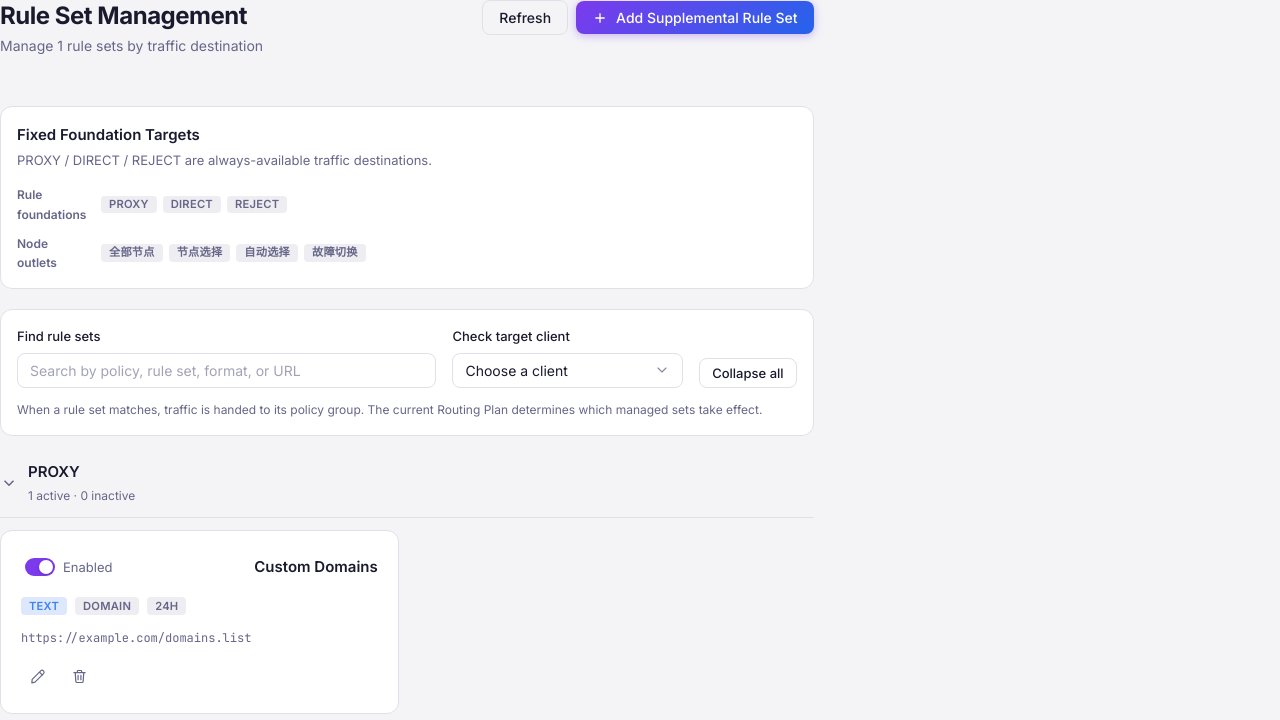
Test case: RemoteRuleSets content validation › discovers known repository sources without overwriting manual values
Click the button named "Edit" at (37, 677), box x1=21 y1=661 x2=53 y2=693
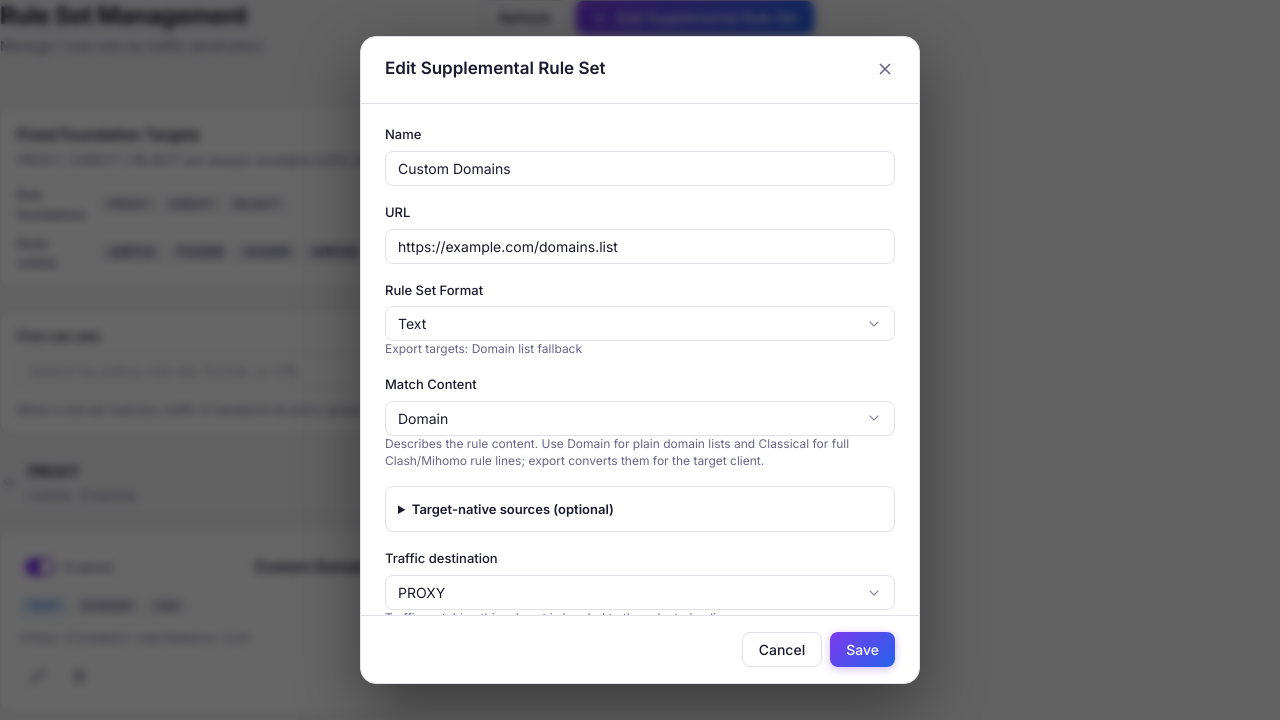
Replace the text in the field labelled "URL" with "https://github.com/QuixoticHeart/rule-set/raw/refs/heads/ruleset/meta/games.list" at (640, 246), box x1=385 y1=229 x2=895 y2=264
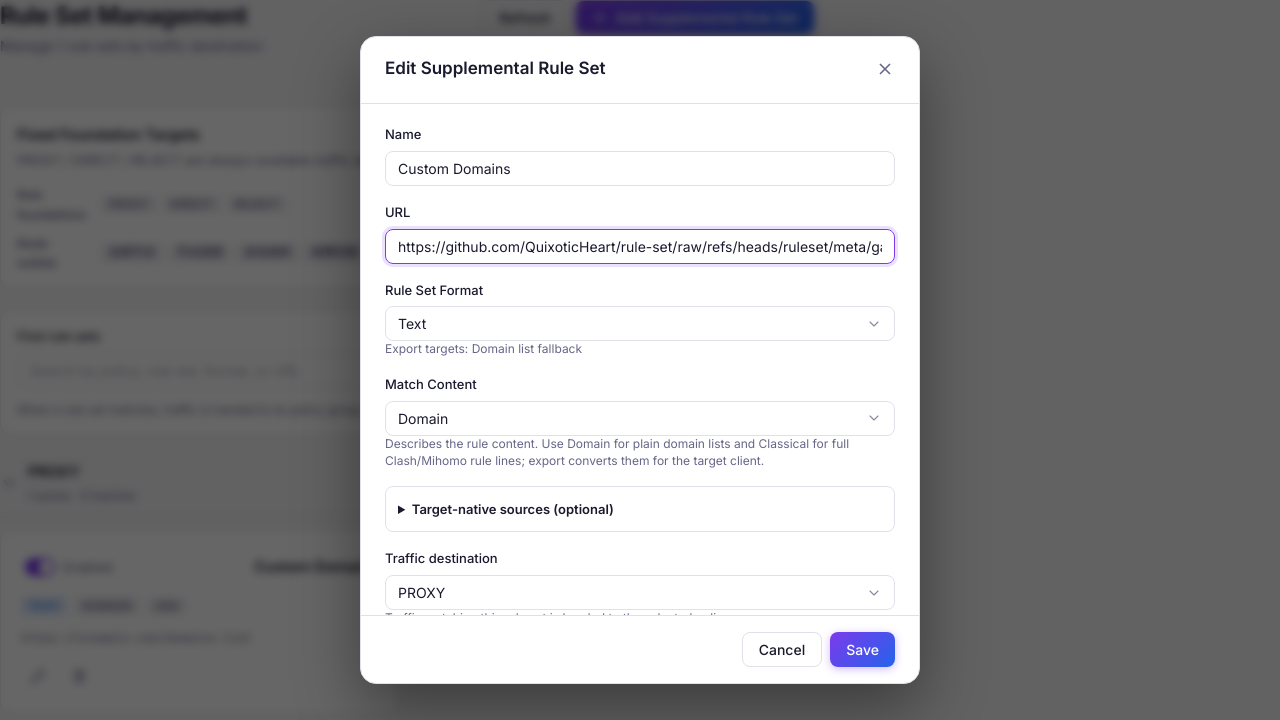
Click the heading "Target-native sources (optional)" at (513, 509), box x1=412 y1=501 x2=614 y2=517
(page scrolled)
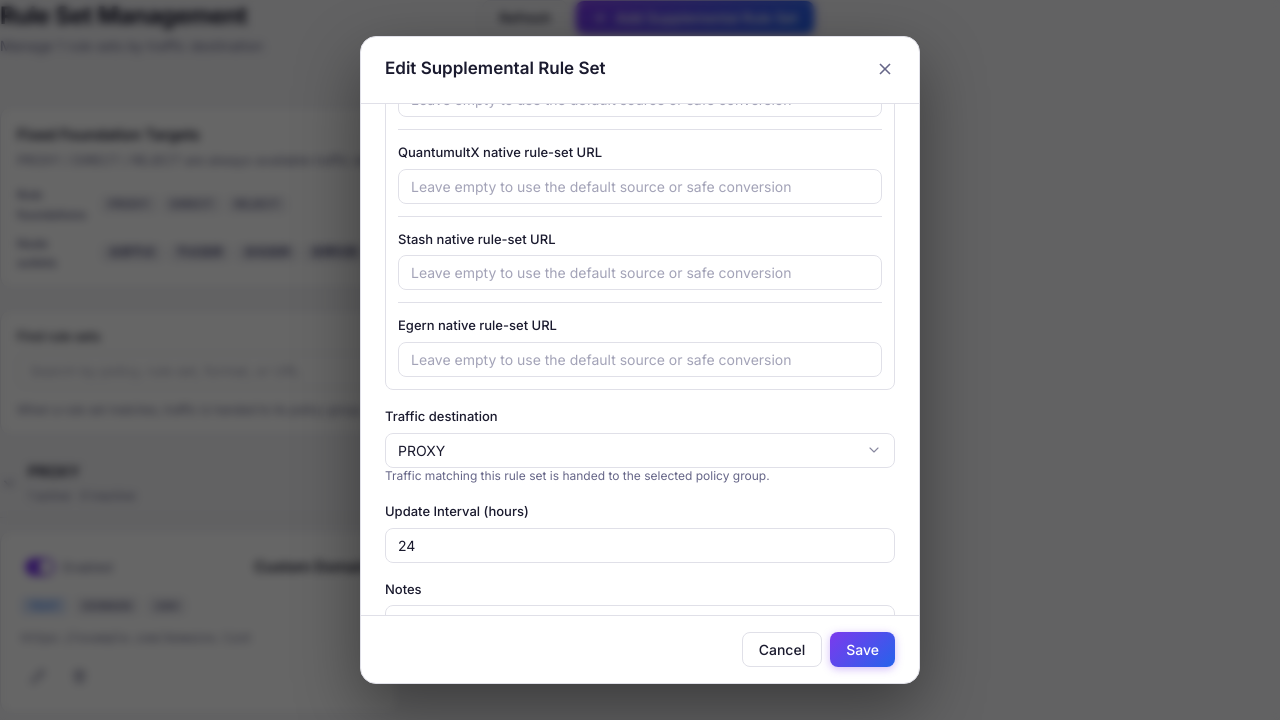
Type "https://manual.example.com/games.yaml" into the field labelled "Egern native rule-set URL" at (640, 360), box x1=398 y1=342 x2=882 y2=377
(page scrolled)
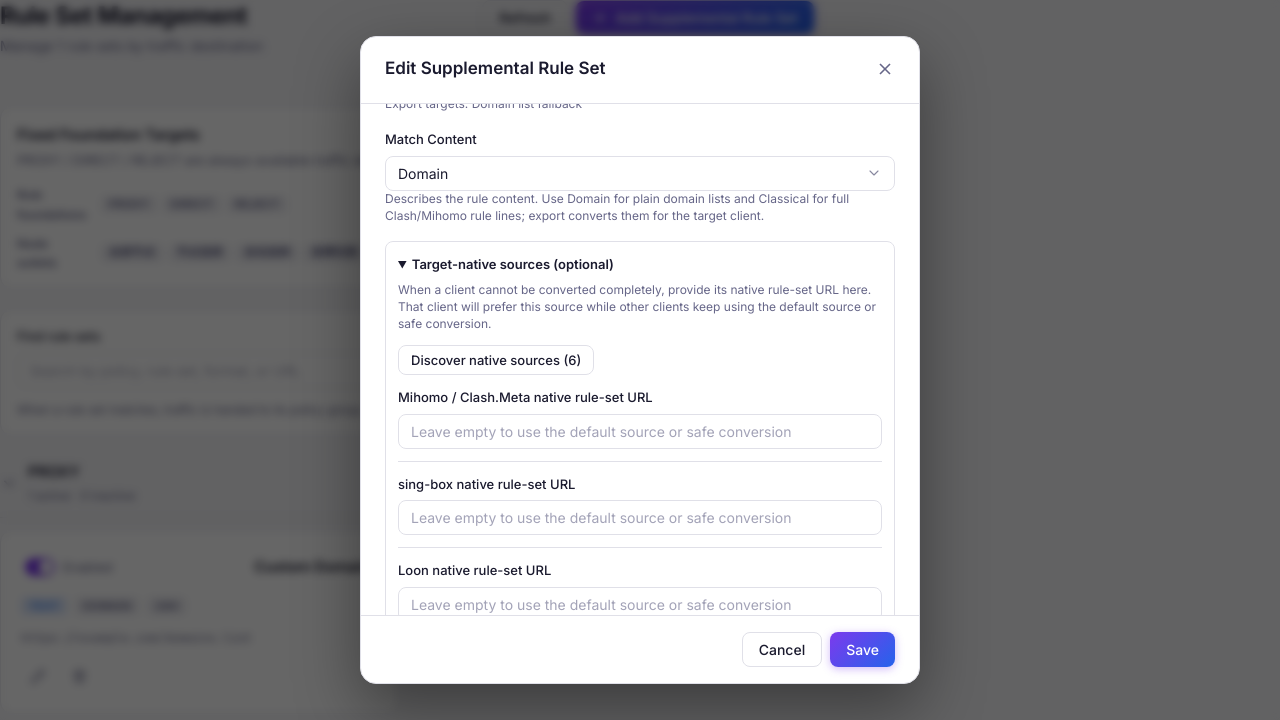
Click the button "Discover native sources (6)" at (496, 360), box x1=398 y1=345 x2=594 y2=375
(page scrolled)
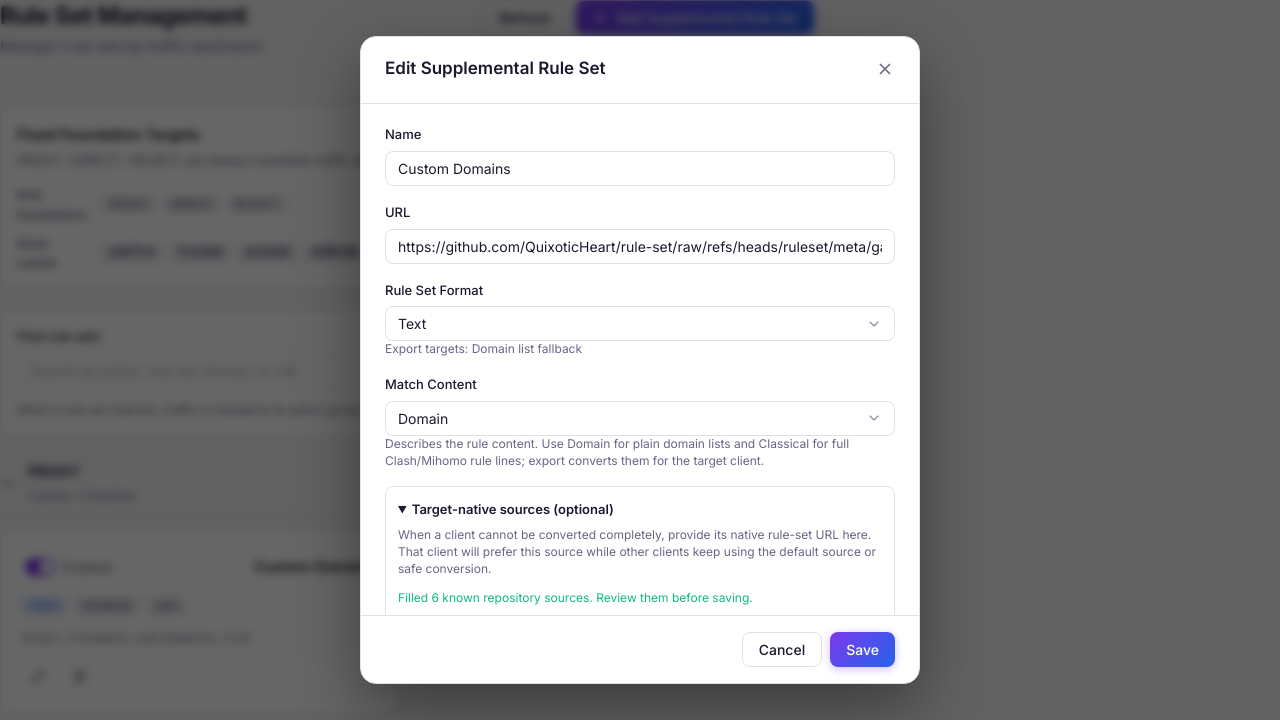
Result: the text "Filled 6 known repository sources. Review them before saving." is shown at x1=398 y1=590 x2=753 y2=605
Replace the text in the field labelled "URL" with "https://github.com/QuixoticHeart/rule-set/raw/refs/heads/ruleset/meta/ai.list" at (640, 246), box x1=385 y1=229 x2=895 y2=264
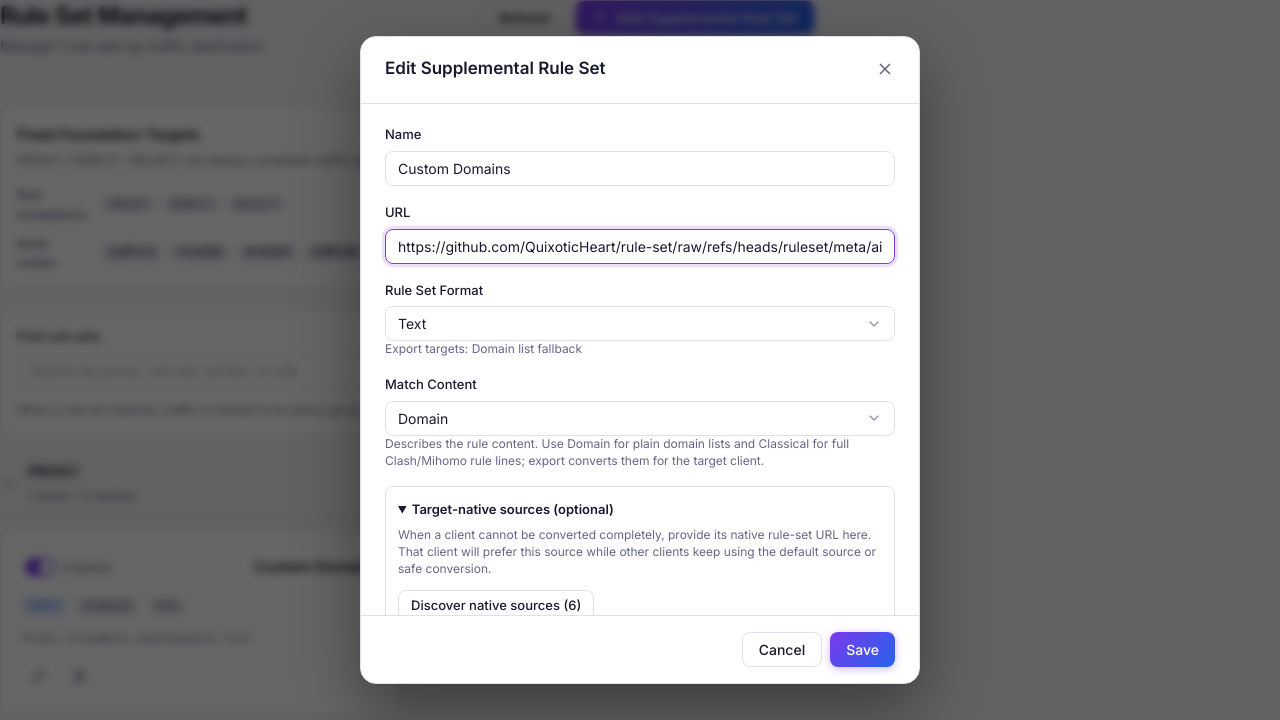
Result: the button "Discover native sources (6)" is shown at x1=398 y1=590 x2=594 y2=615
